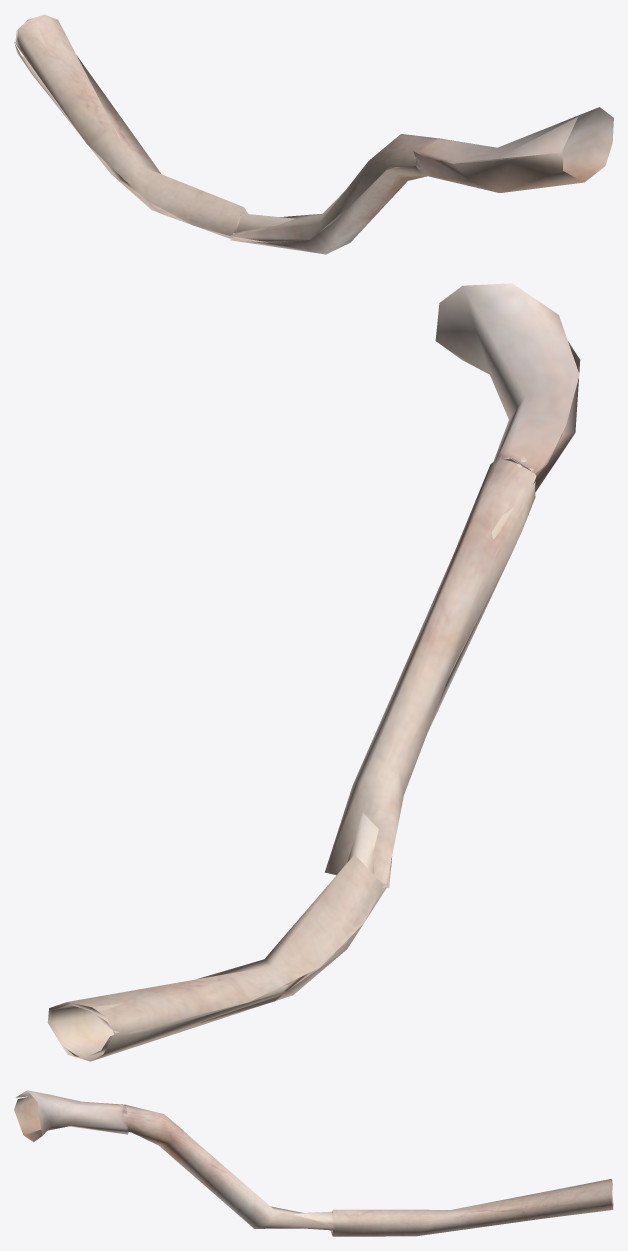
The model's file is assetc.glb.
3 views of the same model, one above another, from view 1: azimuth 30°, elevation 25°; view 2: azimuth 150°, elevation 25°; view 3: azimuth 270°, elevation 25° (orthographic). The views are drawn at different scales.
Visible parts, largest first — view 1: Bronchi_Vessels_pivot.624; view 2: Bronchi_Vessels_pivot.624; view 3: Bronchi_Vessels_pivot.624.
Boxes of the visible parts, box(x1,y1,x2,y2) form: Bronchi_Vessels_pivot.624: box(14, 14, 613, 254); Bronchi_Vessels_pivot.624: box(47, 283, 580, 1061); Bronchi_Vessels_pivot.624: box(14, 1090, 613, 1236).
Size of the model in its own units: 0.0994 by 0.1336 by 0.3871.
2 materials, 2 textured.
